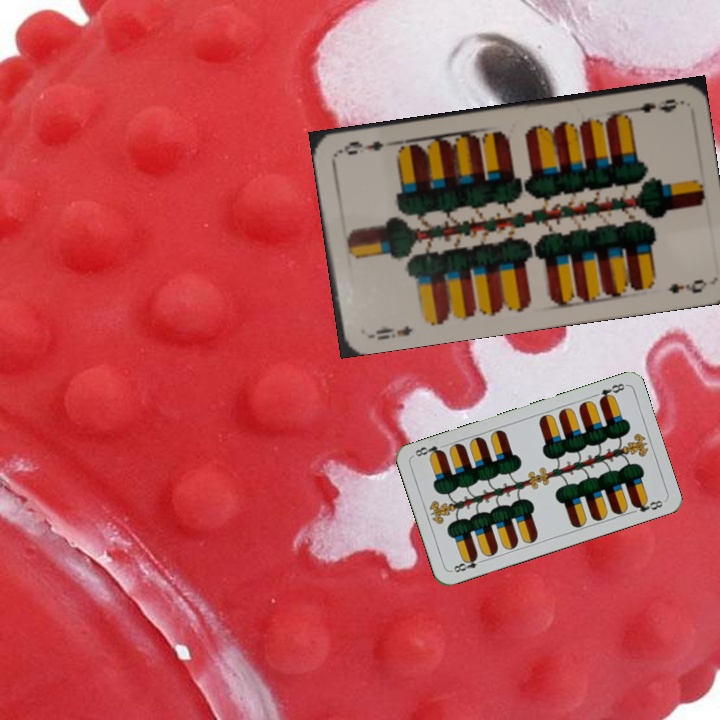E8: (448, 552, 487, 575), (595, 379, 627, 405)
E9: (623, 95, 681, 121), (364, 321, 415, 343)
